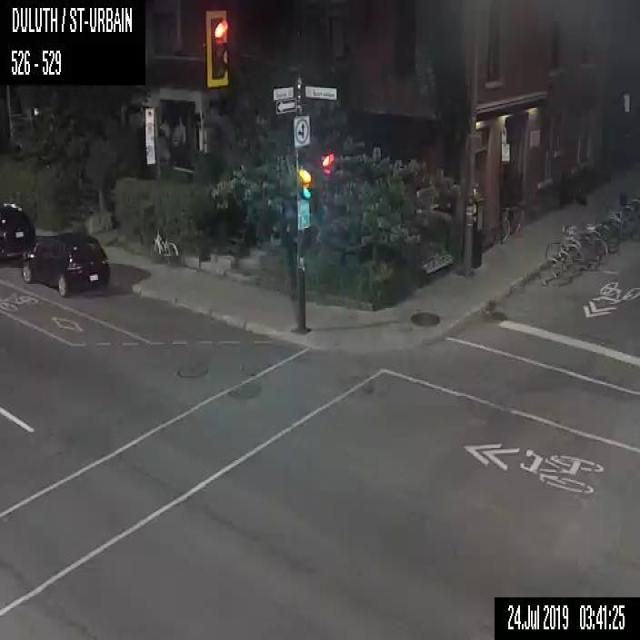vehicle: (21, 232, 109, 297), (0, 200, 36, 260)
